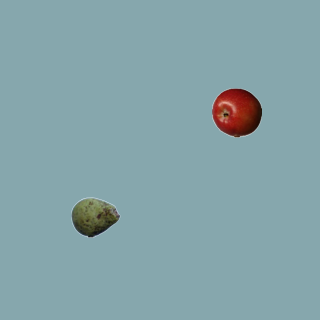Apple Braeburn: (211, 87, 261, 137)
Pear Stone: (70, 192, 120, 242)
